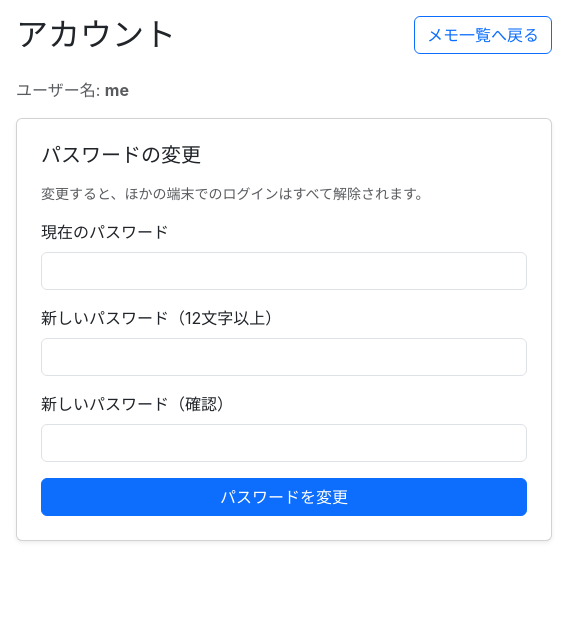
Scenario: AccountPage › 現在のパスワードの誤りはサーバの文言を表示する
The image size is (569, 634).
Type "wrong-password-00" into the password field labelled "現在のパスワード" at (284, 271), box [41,252,527,290]
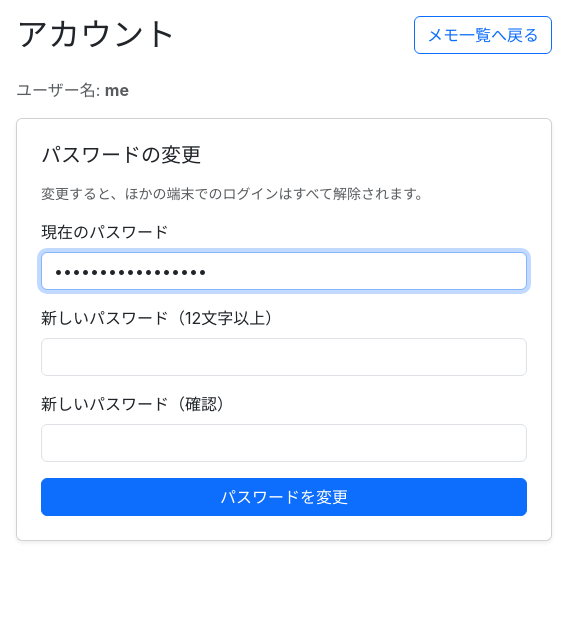
Type "new-password-5678" into the password field labelled "新しいパスワード（12文字以上）" at (284, 357), box [41,338,527,376]
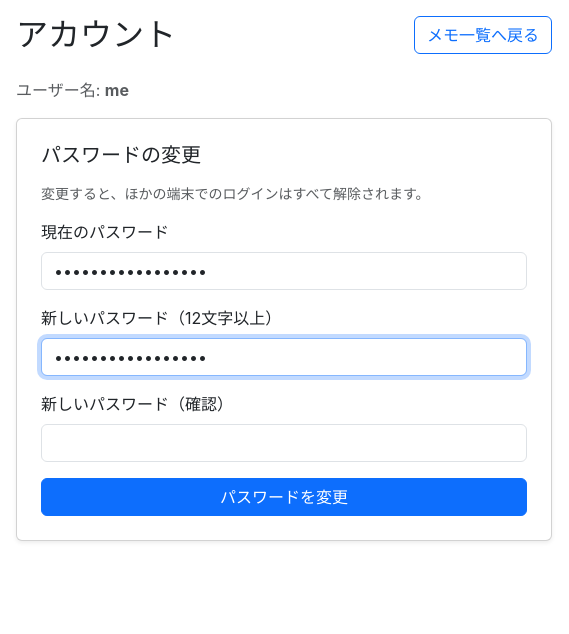
Type "new-password-5678" into the password field labelled "新しいパスワード（確認）" at (284, 443), box [41,424,527,462]
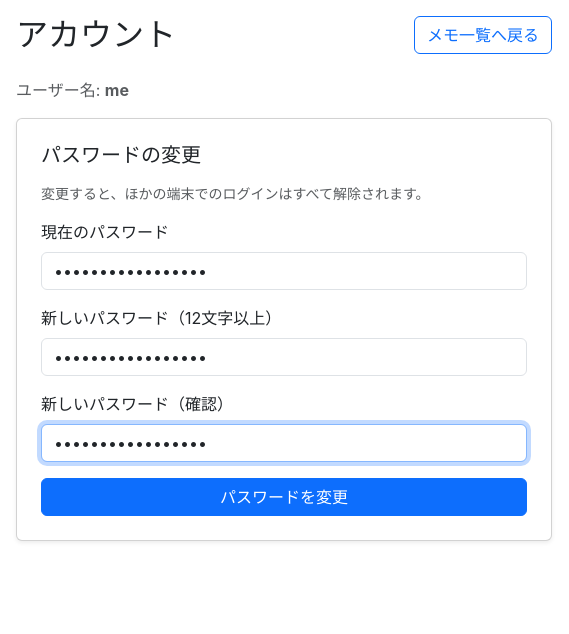
Click the button "パスワードを変更" at (284, 497), box [41,478,527,516]
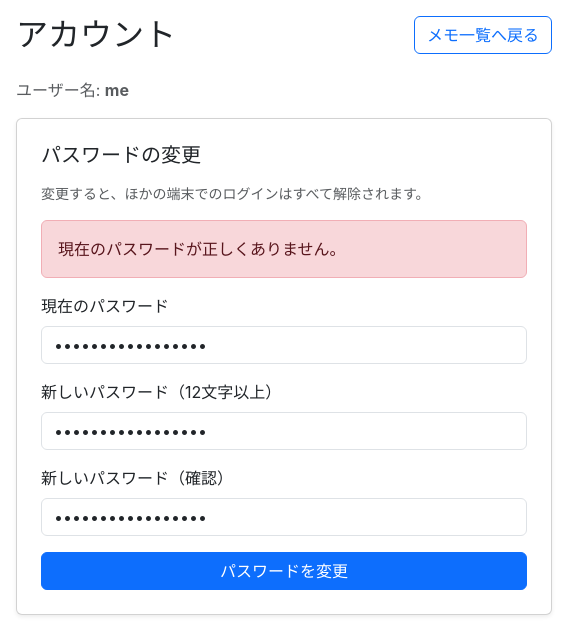
Check: the text "現在のパスワードが正しくありません。" is shown, box [41,220,527,278]
